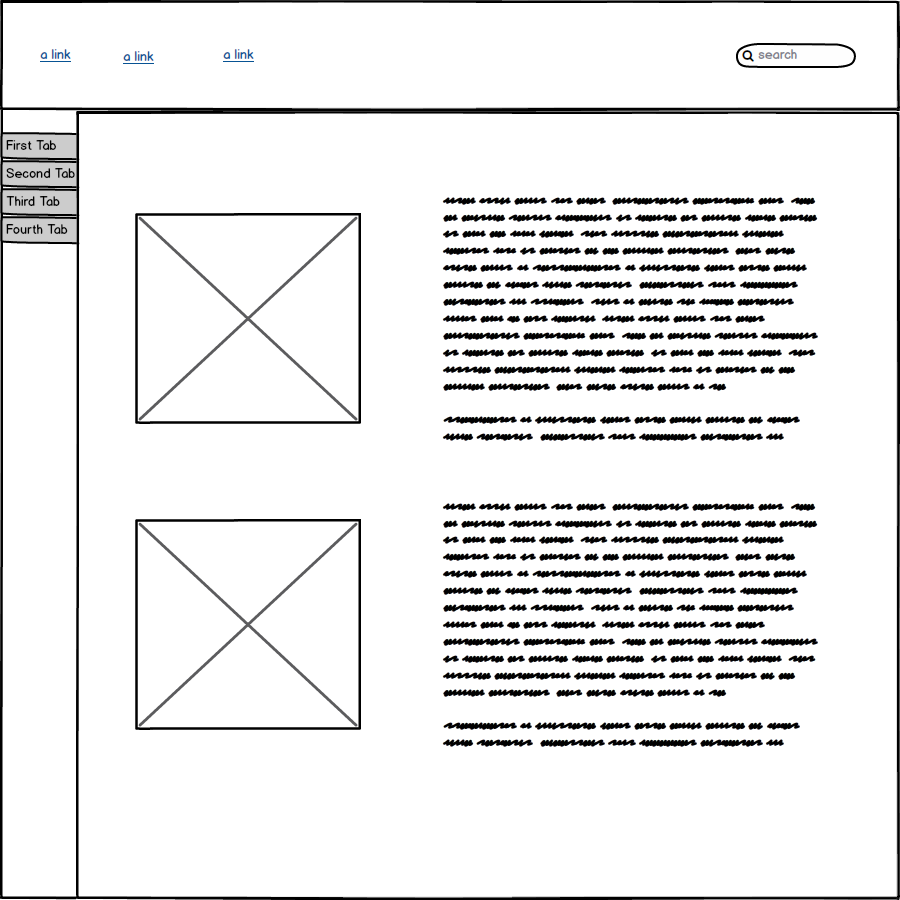image: (126, 206, 365, 433), (128, 512, 367, 737)
navlink: (216, 41, 261, 70), (112, 43, 159, 70), (28, 44, 81, 66)
p: (430, 492, 850, 758), (438, 184, 838, 445)
search: (731, 34, 863, 77)
sidebar: (1, 119, 85, 277)
